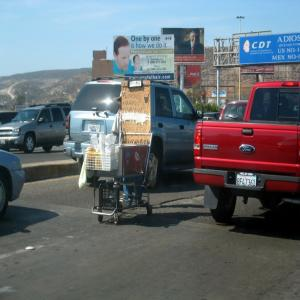Vehicle-registration-plate: (238, 176, 257, 188)
